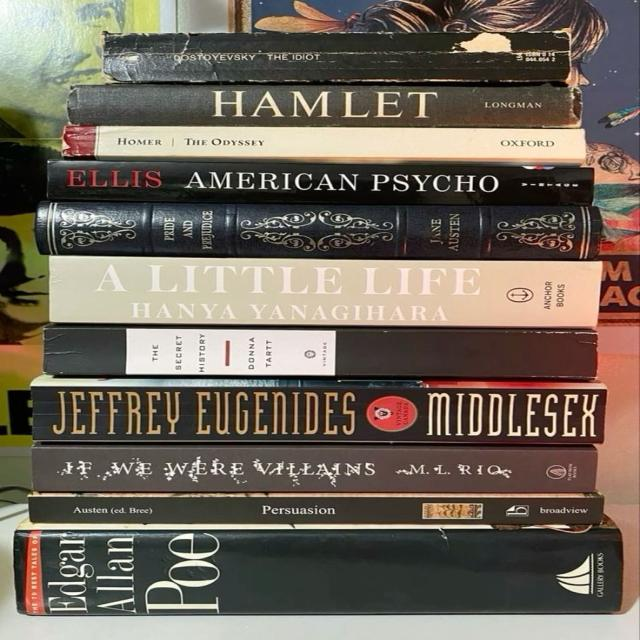book: (15, 531, 623, 615), (49, 257, 601, 327), (32, 386, 606, 444), (41, 202, 597, 259), (45, 330, 598, 377), (47, 160, 594, 206), (32, 449, 597, 492), (104, 32, 570, 80), (71, 85, 579, 127), (61, 126, 585, 163), (28, 496, 602, 524)
